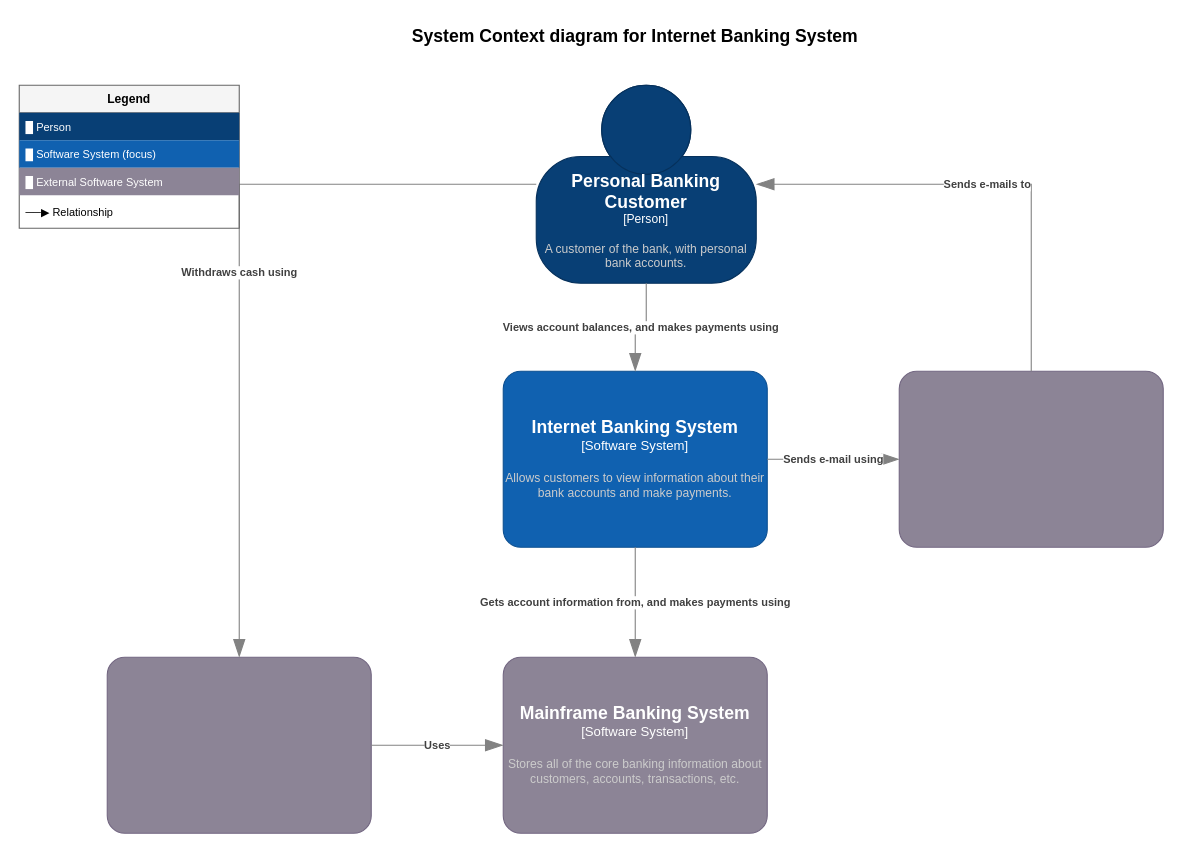
Image size: 1183x853. Some labels were removed from this diagram. Here are the shapes that lost their labels. From the top down, the centre of each, then its label:
pixel 1030 458: E-mail System [Software System] The internal Microsoft Exchange e-mail system.
pixel 238 744: ATM [Software System] Allows customers to withdraw cash.
